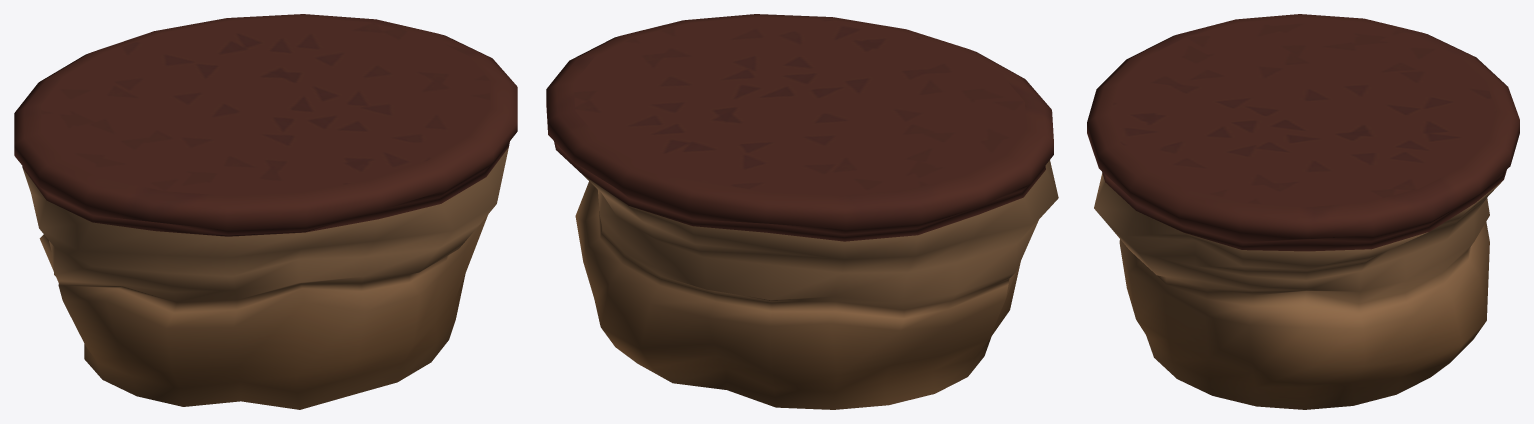
File: environment_cliff_variation_b.fbx
3 views of the same model, side by side, from view 1: azimuth 30°, elevation 25°; view 2: azimuth 150°, elevation 25°; view 3: azimuth 270°, elevation 25° (orthographic). The views are drawn at different scales.
Parts seen in each view (by area): view 1: Cliff_A1; view 2: Cliff_A1; view 3: Cliff_A1.
Boxes of the visible parts, box(x1,y1,x2,y2) form: Cliff_A1: box(14, 14, 517, 409); Cliff_A1: box(546, 14, 1058, 409); Cliff_A1: box(1087, 14, 1519, 409).
Bounding box in the file's own units: 877 × 428 × 753.
